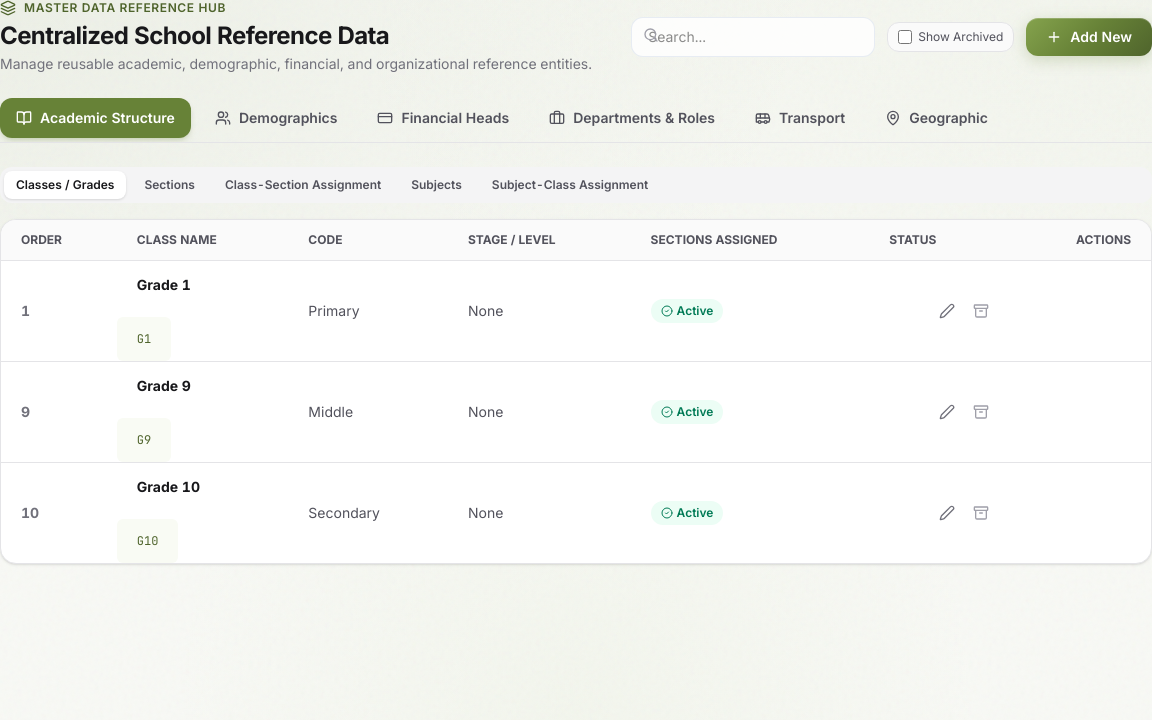
Test: MasterData Search and Filtering Unit Tests › displays localized empty state message when no matching records are found
Type "NonExistentGrade999" into the field with placeholder "Search...".
click(753, 37); type("NonExistentGrade999")  # box [631,17,875,57]
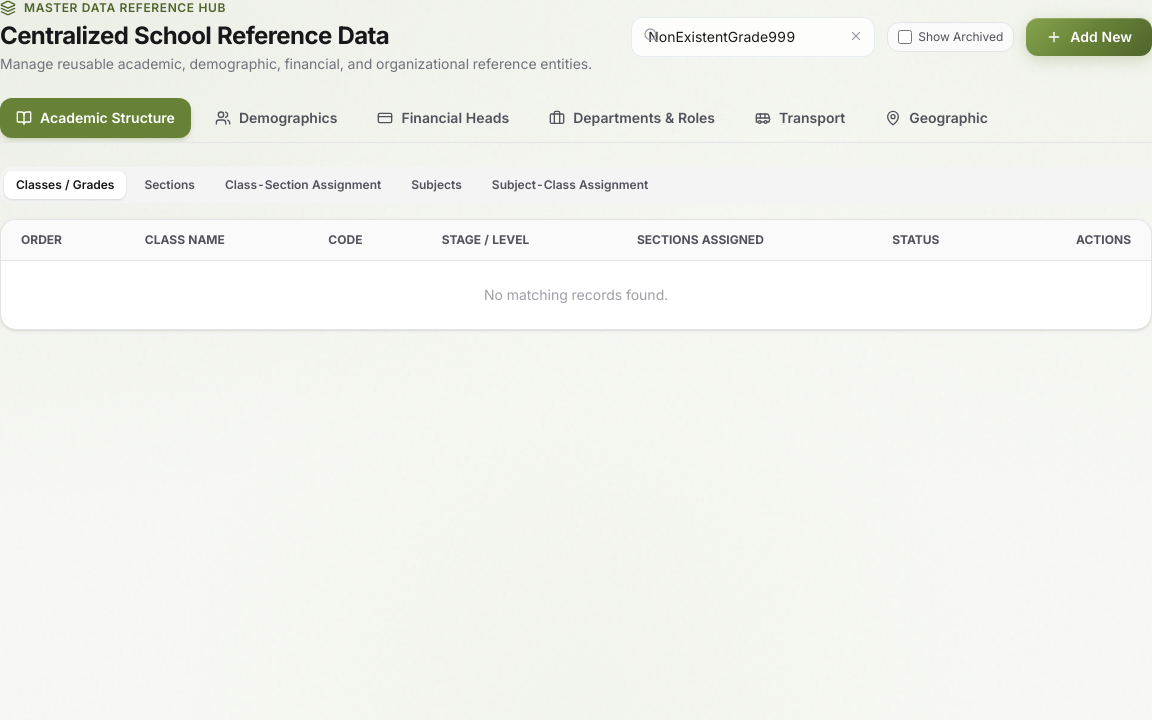
Check: the text "No matching records found." is shown, box [1,260,1151,329]
